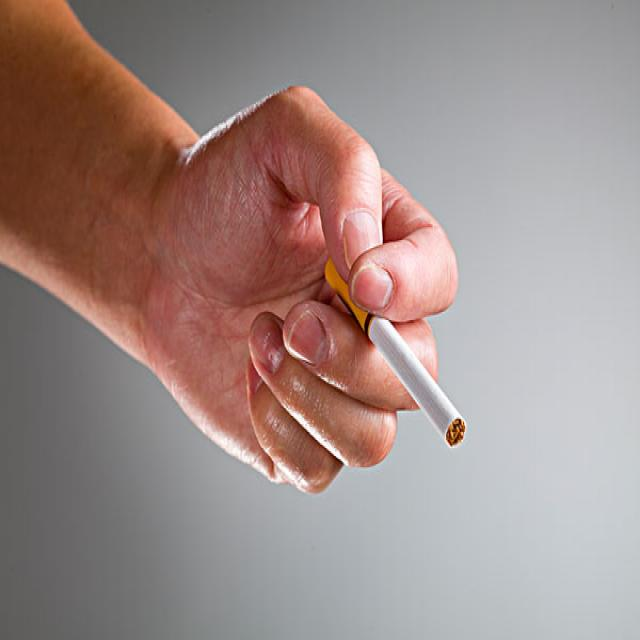smoking: (314, 255, 467, 449)
